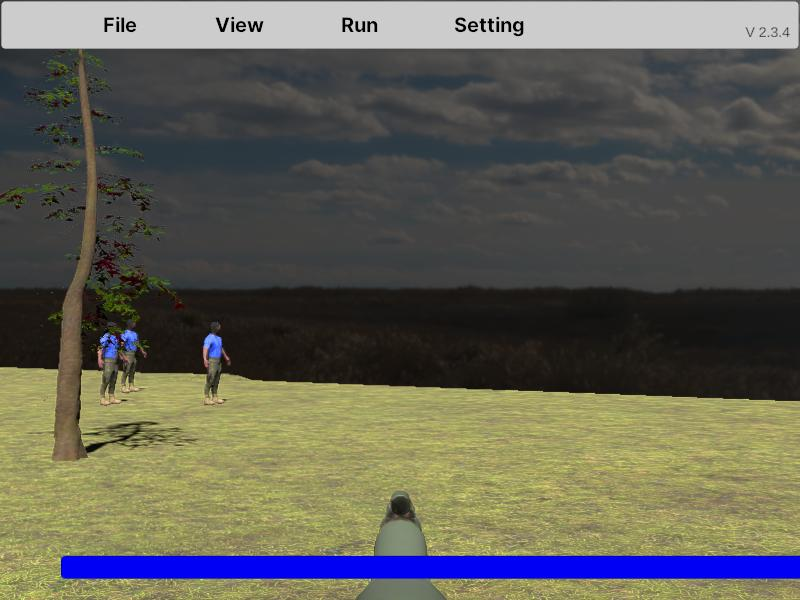Human: (97, 320, 126, 406), (203, 320, 231, 406), (118, 319, 147, 393)
